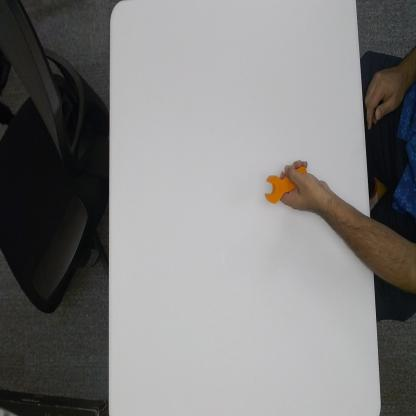Arm: (336, 187, 416, 295)
Hand: (285, 159, 331, 223)
Screwdriver: (264, 157, 310, 205)
